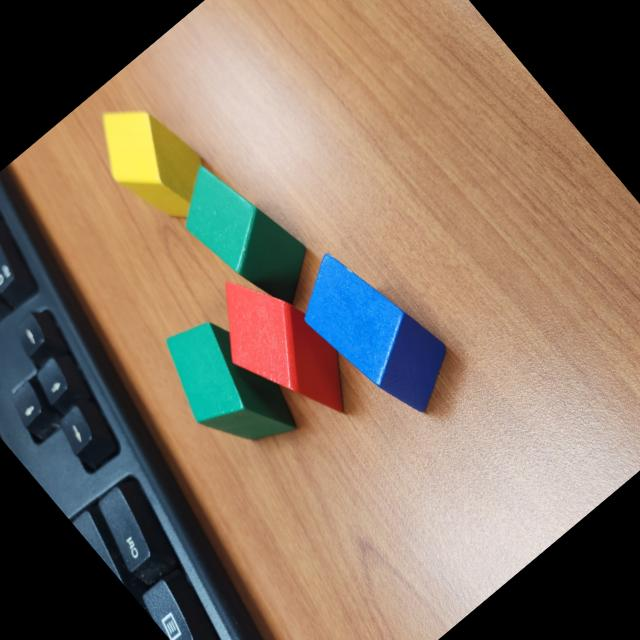blue: (280, 230, 471, 433)
green: (160, 144, 332, 326), (143, 296, 314, 476)
red: (189, 248, 377, 446)
yellow: (76, 81, 230, 242)
